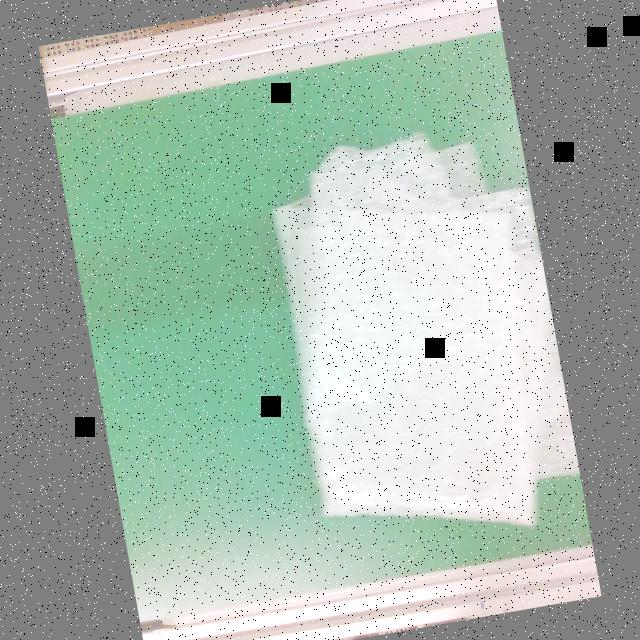scrap_plastic: (257, 114, 587, 565)
